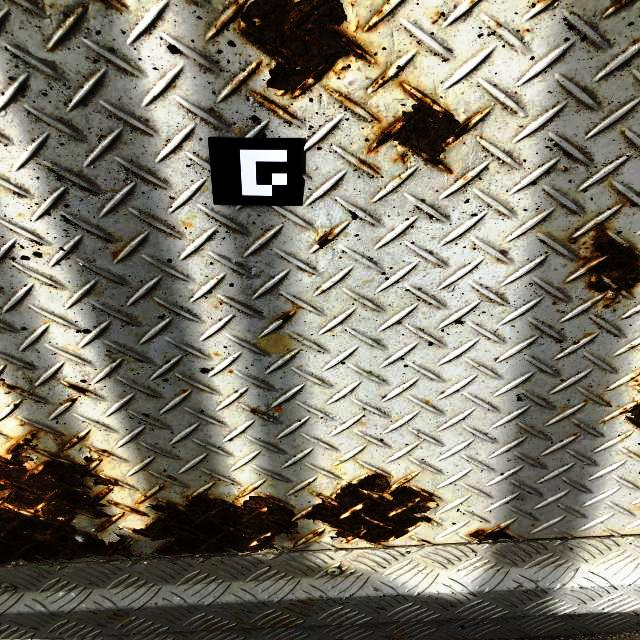Corrosion: (0, 424, 144, 567), (212, 0, 377, 100), (132, 489, 303, 557), (367, 83, 481, 176), (301, 472, 440, 546), (578, 229, 640, 309), (251, 90, 297, 119), (230, 60, 263, 94), (468, 525, 515, 542), (289, 529, 326, 549), (107, 500, 150, 517), (619, 400, 640, 430), (326, 88, 358, 107), (370, 66, 393, 90), (136, 485, 163, 504), (356, 158, 382, 175), (316, 229, 335, 248), (96, 0, 130, 10), (66, 384, 89, 397), (0, 381, 21, 395), (236, 486, 259, 498), (334, 63, 352, 76), (609, 0, 629, 9), (278, 313, 293, 323), (363, 22, 378, 32), (112, 249, 124, 261), (631, 378, 640, 393), (432, 13, 441, 24), (251, 410, 266, 416), (416, 539, 434, 544), (66, 397, 77, 404), (376, 9, 383, 17), (49, 45, 57, 52), (496, 22, 503, 28), (13, 402, 21, 407), (78, 5, 86, 10), (606, 402, 612, 408), (17, 423, 26, 427), (181, 390, 189, 394), (525, 28, 531, 33), (541, 0, 548, 4), (27, 394, 33, 397), (292, 537, 296, 541), (20, 391, 26, 393)
